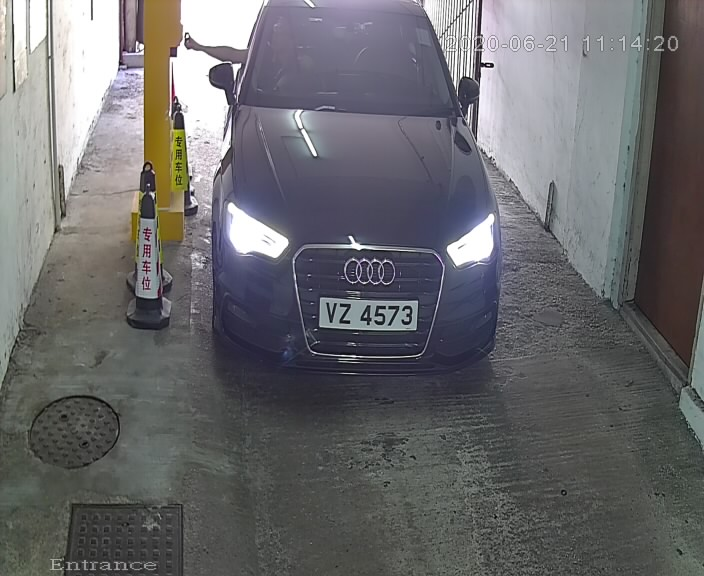privatecar: (194, 1, 515, 399)
